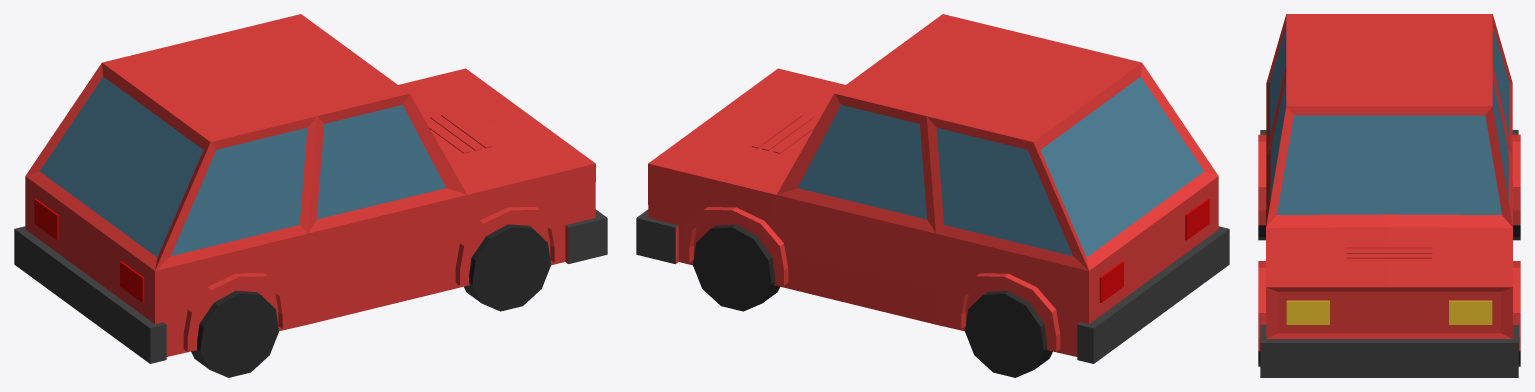
The model's file is Car.fbx.
3 views of the same model, side by side, from view 1: azimuth 30°, elevation 25°; view 2: azimuth 150°, elevation 25°; view 3: azimuth 270°, elevation 25° (orthographic). The views are drawn at different scales.
Visible parts, largest first — view 1: Cube, Cylinder; view 2: Cube, Cylinder; view 3: Cube, Cylinder.
Part boxes in pixels (x1,y1,x2,y2): Cube: [14, 14, 607, 363]; Cylinder: [183, 207, 563, 377]; Cube: [636, 14, 1229, 363]; Cylinder: [680, 207, 1060, 377]; Cube: [1260, 14, 1518, 377]; Cylinder: [1258, 134, 1520, 366].
Size of the model in its own units: 509 by 240 by 266.
